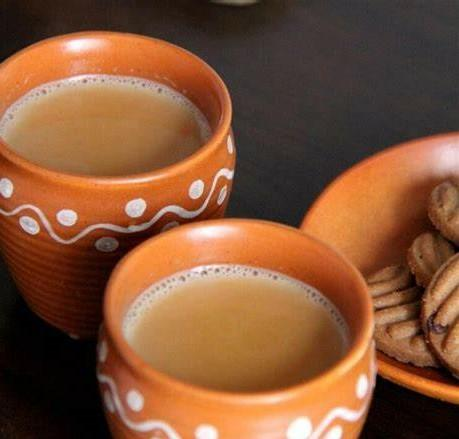Chai: (125, 264, 361, 390), (0, 73, 215, 171)
